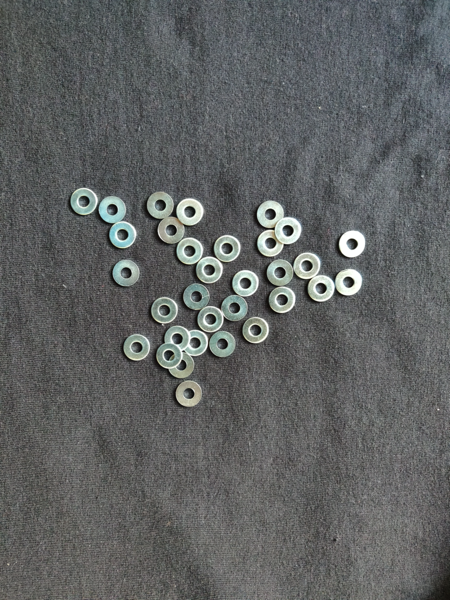circles: (96, 193, 128, 226), (334, 267, 366, 300), (156, 215, 188, 248), (144, 190, 176, 223), (255, 198, 287, 231), (68, 185, 99, 218), (107, 219, 138, 252), (111, 257, 142, 290), (122, 331, 153, 364), (154, 341, 185, 374), (166, 348, 197, 381), (174, 378, 205, 411), (162, 323, 193, 356), (179, 328, 210, 361), (207, 329, 238, 362), (149, 296, 180, 329), (182, 282, 213, 315), (195, 305, 226, 338), (220, 292, 251, 325), (241, 314, 272, 347), (230, 269, 261, 302), (268, 285, 299, 318), (265, 258, 296, 291), (306, 273, 337, 306), (292, 250, 323, 283), (337, 227, 368, 260), (193, 255, 224, 288), (174, 237, 205, 270), (211, 233, 242, 266), (175, 196, 206, 229), (257, 227, 288, 260), (273, 214, 304, 246)
